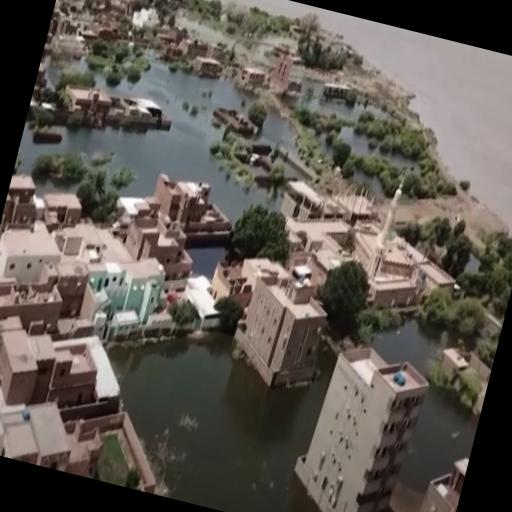flood: (231, 0, 512, 233), (18, 59, 280, 222), (109, 332, 335, 512), (391, 386, 479, 512), (373, 318, 455, 376), (296, 80, 388, 122), (339, 127, 418, 170), (44, 56, 89, 86), (187, 247, 225, 279), (260, 113, 293, 147), (352, 169, 385, 200)
house: (278, 327, 437, 512), (216, 264, 340, 410), (330, 226, 428, 324), (0, 386, 86, 473), (96, 246, 168, 343), (0, 308, 63, 418), (434, 342, 496, 424), (0, 220, 62, 295), (146, 168, 214, 234), (412, 449, 469, 512), (278, 175, 338, 231), (0, 169, 45, 240), (56, 78, 114, 132), (33, 182, 86, 235), (186, 37, 229, 85)
